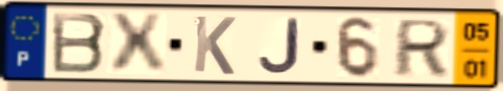6: (334, 14, 382, 81)
B: (49, 11, 109, 76)
J: (256, 17, 302, 76)
K: (191, 13, 239, 78)
R: (390, 17, 453, 79)
X: (105, 11, 169, 77)
